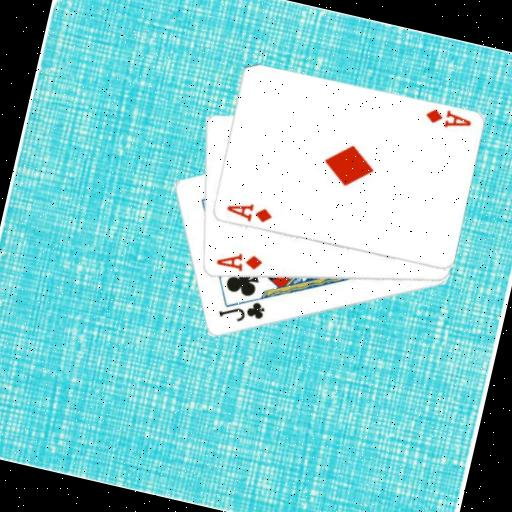AD: (211, 244, 265, 278), (221, 195, 275, 228), (420, 103, 474, 135)
JC: (214, 291, 268, 330)
